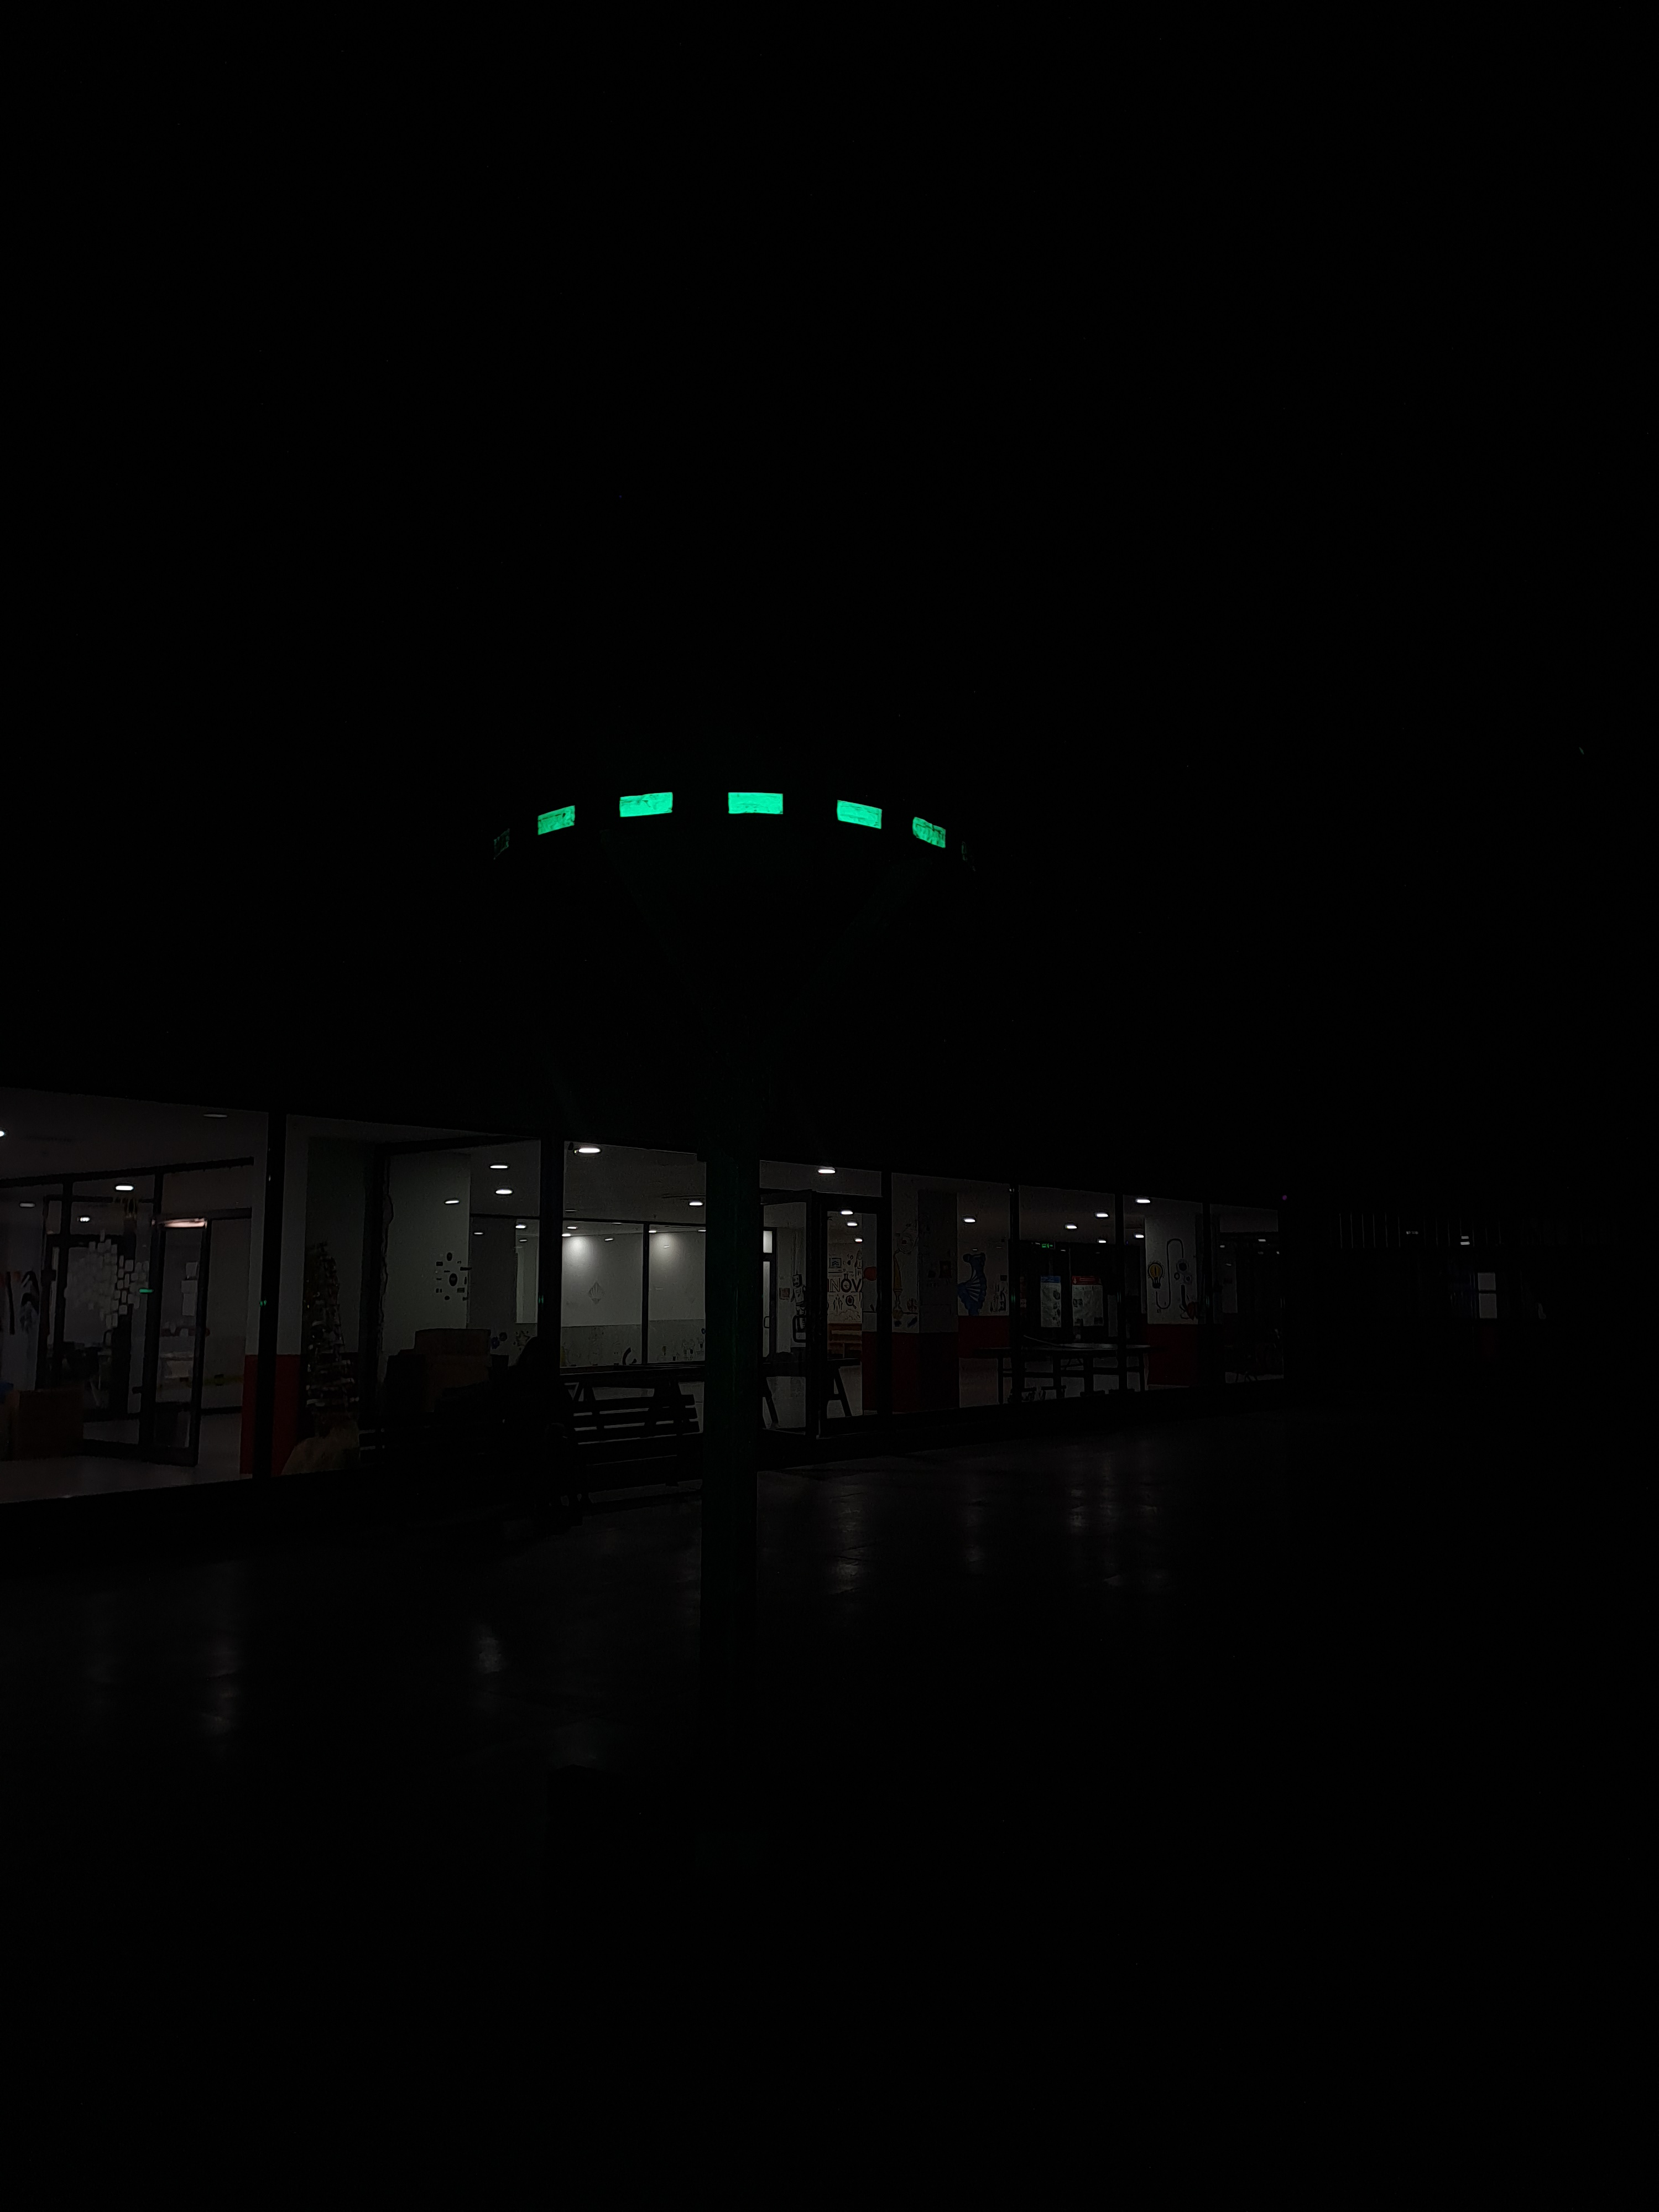hoop: (528, 789, 950, 853)
